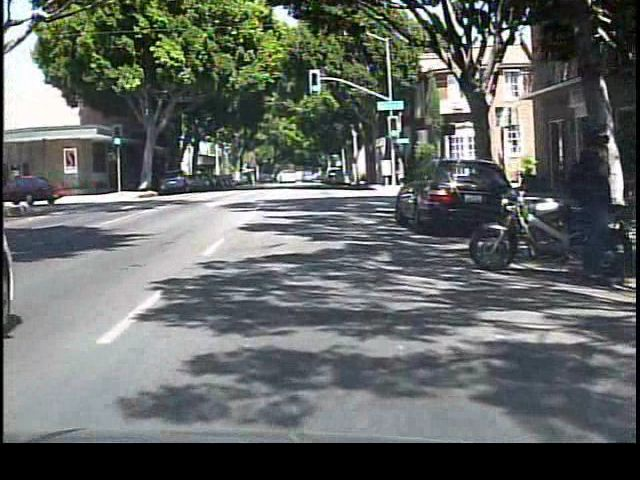person: (561, 131, 613, 290), (391, 155, 408, 191)
